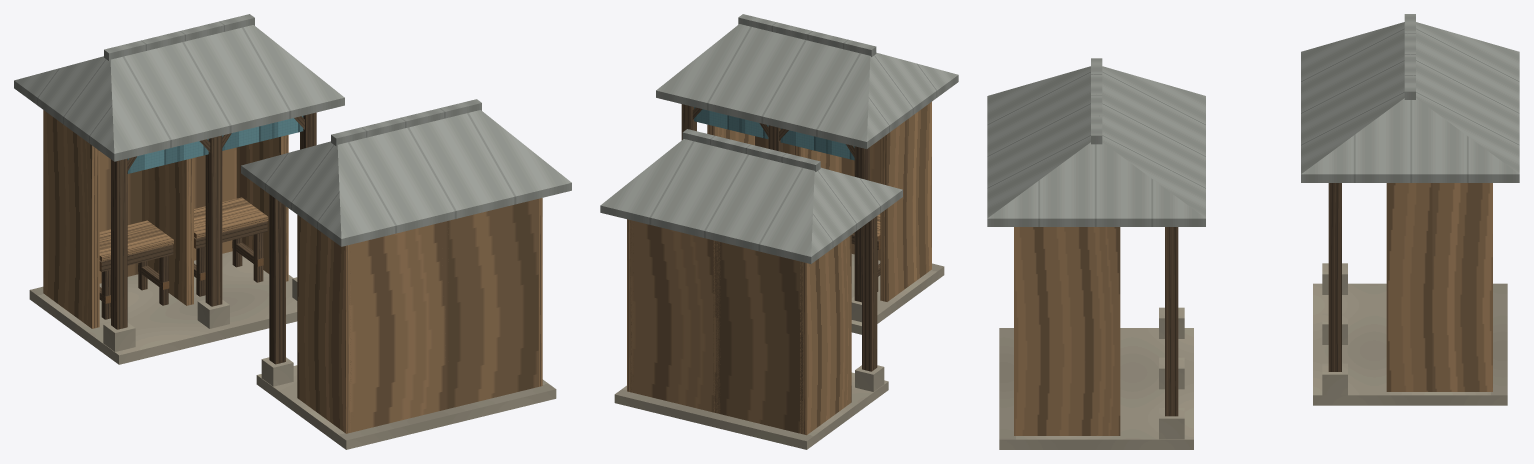
3 renders of one model, left to right at view 1: azimuth 30°, elevation 25°; view 2: azimuth 150°, elevation 25°; view 3: azimuth 270°, elevation 25°, orthographic. The views are drawn at different scales.
Visible parts, largest first — view 1: georgetown; view 2: georgetown; view 3: georgetown.
Part boxes in pixels (x1,y1,x2,y2): georgetown: (14, 14, 571, 449); georgetown: (600, 14, 958, 449); georgetown: (987, 14, 1519, 449).
Size of the model in its own units: 3.01 by 2.5 by 4.06.
Materials: 1 (1 with a texture image).
